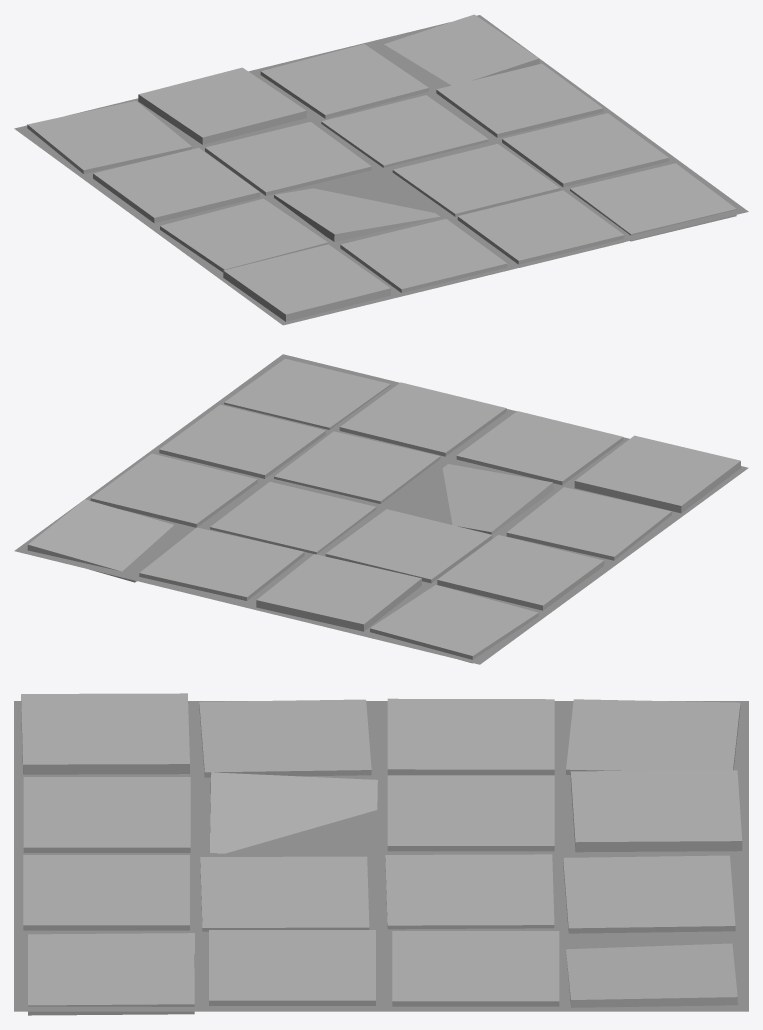
The model's file is dalle1.FBX.
3 renders of one model, top to bottom at view 1: azimuth 30°, elevation 25°; view 2: azimuth 150°, elevation 25°; view 3: azimuth 270°, elevation 25°, orthographic. The views are drawn at different scales.
Parts seen in each view (by area): view 1: Plane002; view 2: Plane002; view 3: Plane002.
Part boxes in pixels (box(x1,y1,x2,y2)): Plane002: box(14, 14, 748, 325); Plane002: box(14, 354, 748, 664); Plane002: box(14, 693, 748, 1015).
Bounding box in the file's own units: 100 × 4.26 × 100.
Materials: 1 (1 with a texture image).
